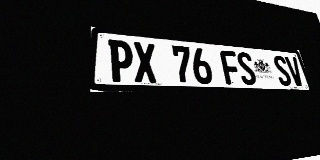6: (190, 47, 214, 84)
7: (170, 45, 195, 84)
F: (219, 50, 242, 85)
P: (108, 39, 134, 83)
S: (235, 51, 258, 85), (272, 55, 293, 86)
V: (284, 56, 305, 86)
X: (133, 42, 158, 83)
